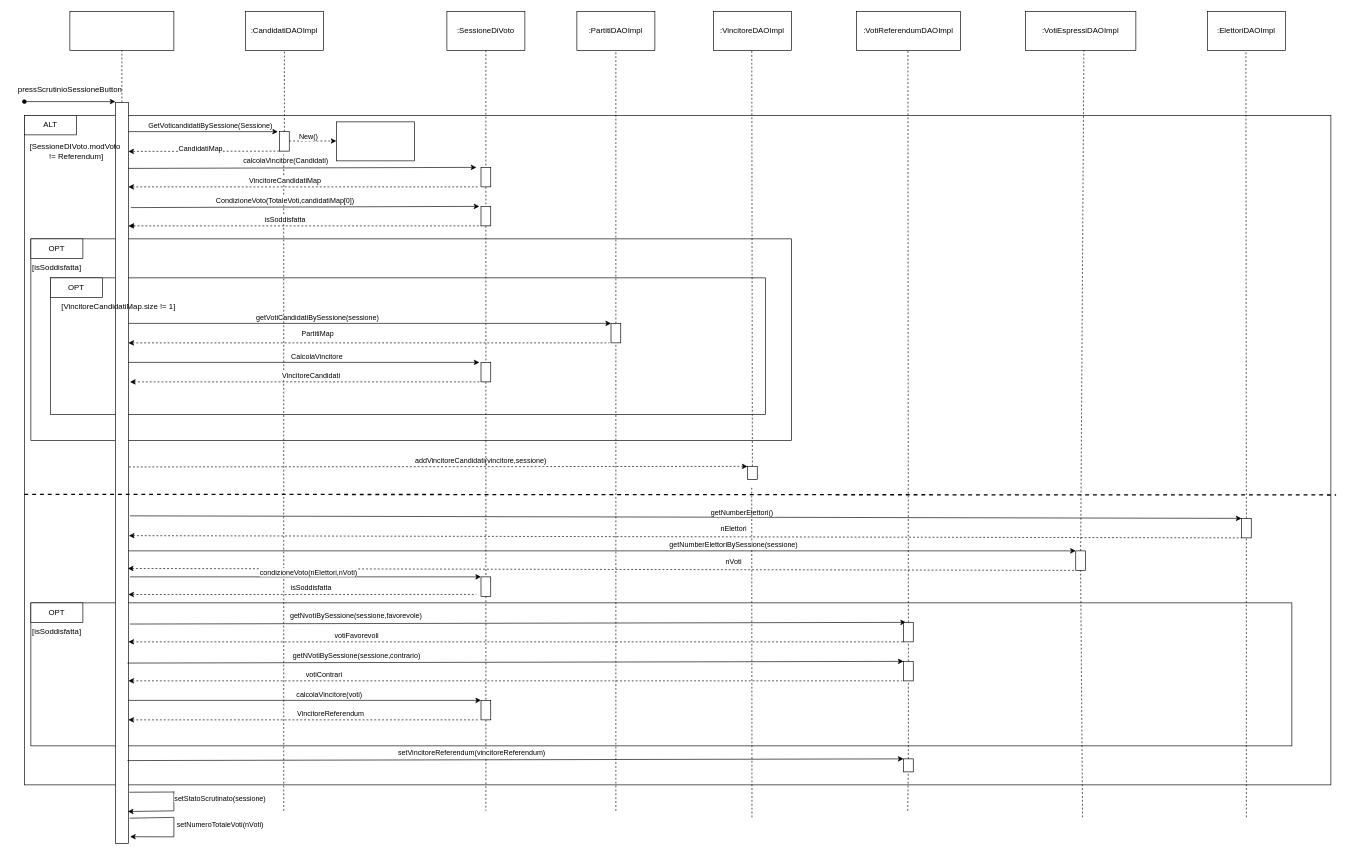
Image size: 1349x855. Some labels were removed from this diagram. The box of each missing label's shape, as (x1, y1, x2, y2) in pixels:
:Candidato: (336, 121, 414, 161)
:GestoreSessioniButton: (69, 11, 174, 50)
